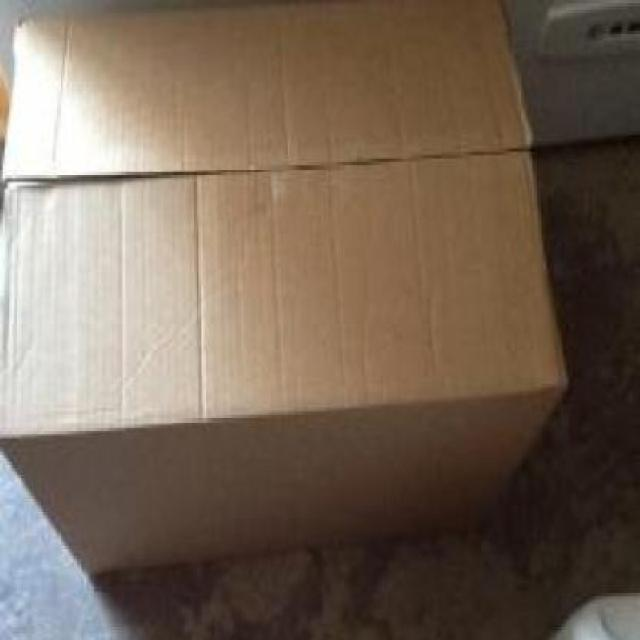box: (0, 0, 571, 580)
